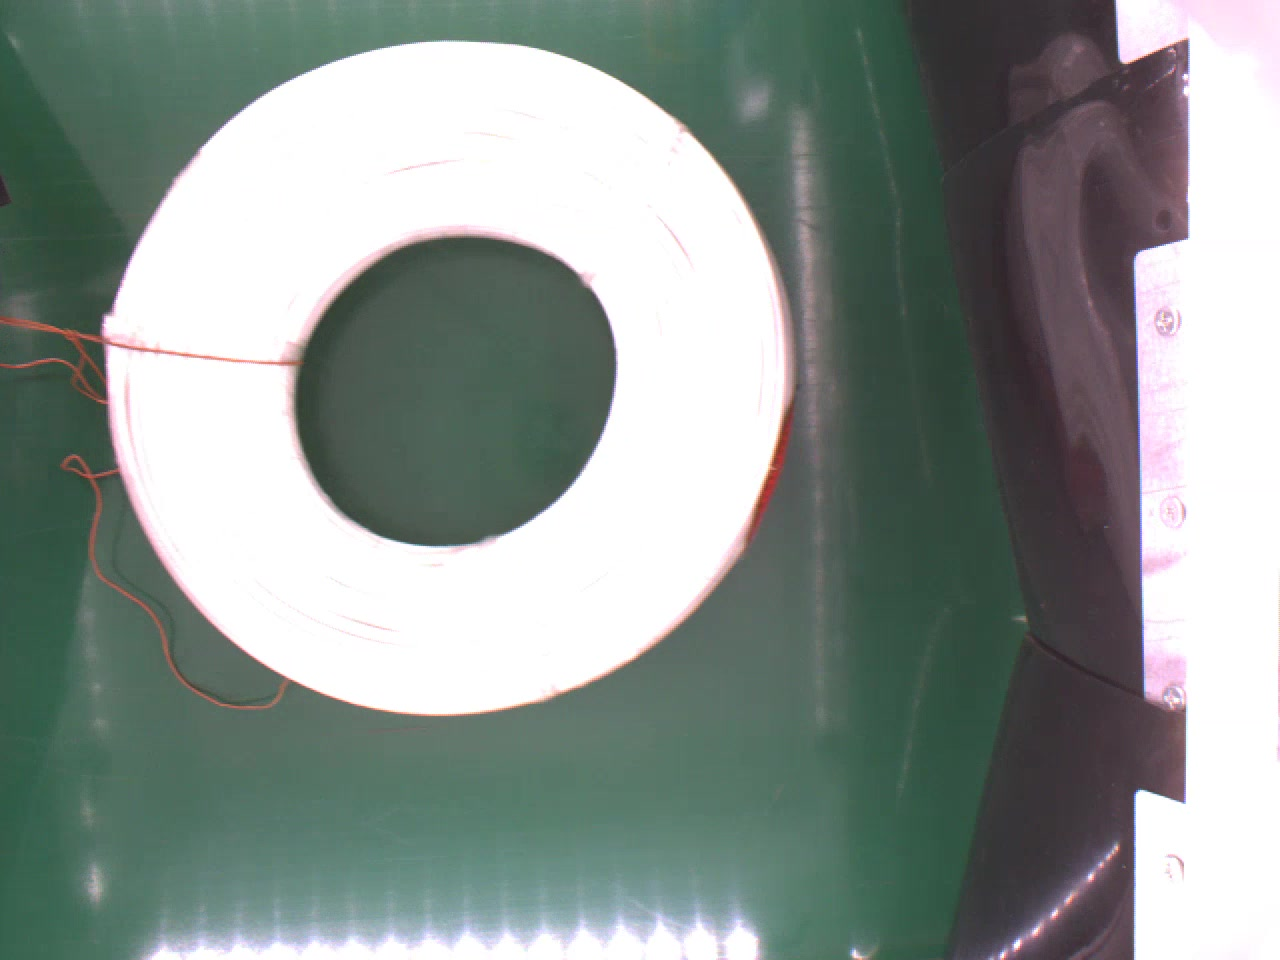white: (98, 36, 809, 707)
